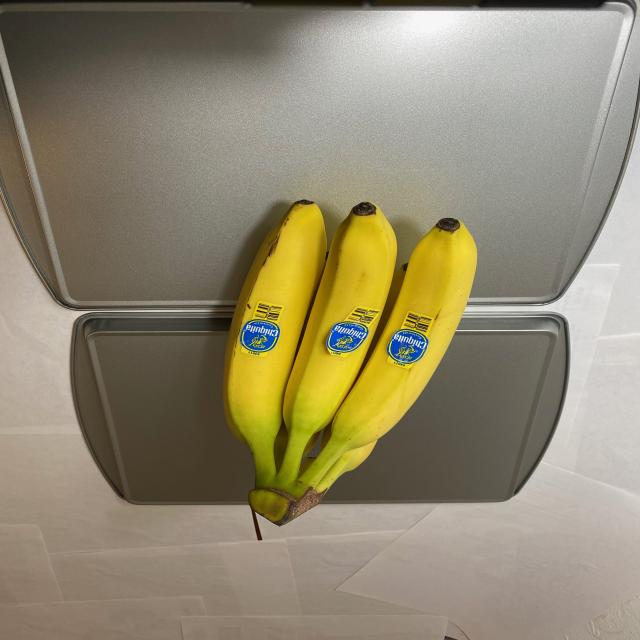banana: (218, 183, 482, 524)
